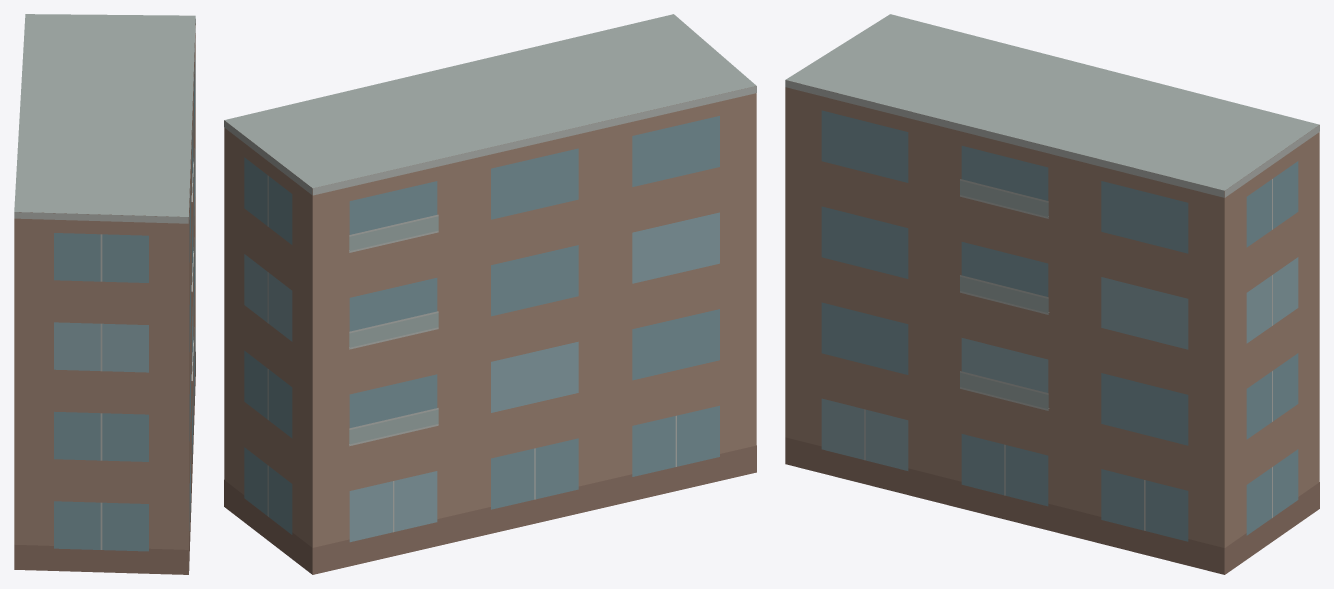
Rendered from survey-upis-33035276.glb.
The picture shows the model from 3 angles, left to right: view 1: azimuth 30°, elevation 25°; view 2: azimuth 150°, elevation 25°; view 3: azimuth 270°, elevation 25°; orthographic projection. The views are drawn at different scales.
Parts seen in each view (by area): view 1: survey-upis-33035276.tmp; view 2: survey-upis-33035276.tmp; view 3: survey-upis-33035276.tmp.
Part boxes in pixels (x1=…): survey-upis-33035276.tmp: x1=14, y1=14, x2=195, y2=574; survey-upis-33035276.tmp: x1=224, y1=14, x2=756, y2=574; survey-upis-33035276.tmp: x1=785, y1=14, x2=1319, y2=574.
Size of the model in its own units: 12.83 by 13 by 16.4.
